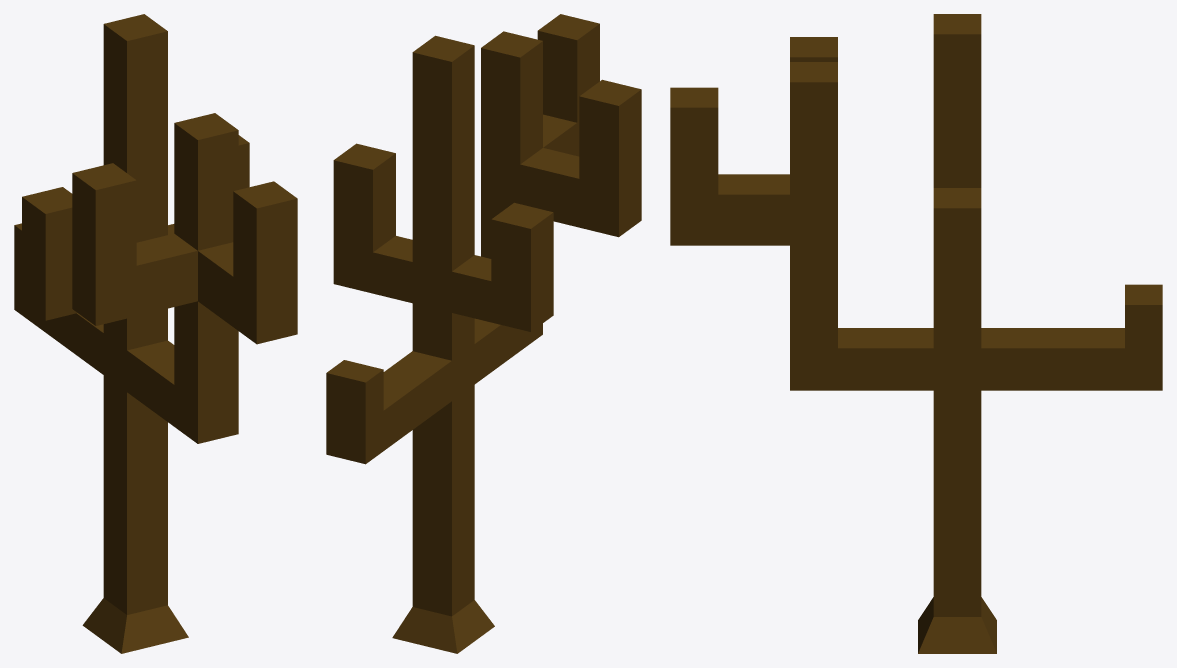
The model's file is forest3(no leaves).fbx.
3 views of the same model, side by side, from view 1: azimuth 30°, elevation 25°; view 2: azimuth 150°, elevation 25°; view 3: azimuth 270°, elevation 25° (orthographic). The views are drawn at different scales.
Parts seen in each view (by area): view 1: forest3(no leaves); view 2: forest3(no leaves); view 3: forest3(no leaves).
Boxes of the visible parts, x1,y1,x2,y2 form: forest3(no leaves): (14,14,297,653); forest3(no leaves): (326,14,641,653); forest3(no leaves): (670,14,1162,653).
Bounding box in the file's own units: 491 × 1262 × 918.
Materials: 1 (1 with a texture image).
